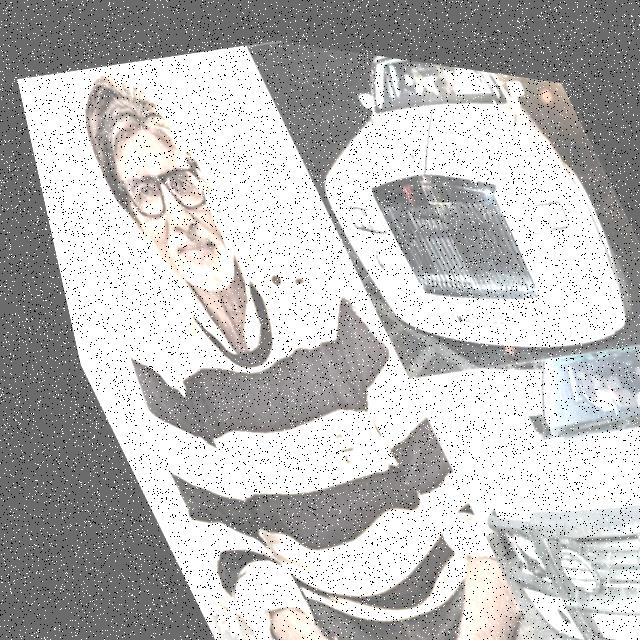license_plate: (426, 274, 526, 344), (559, 568, 640, 640)
